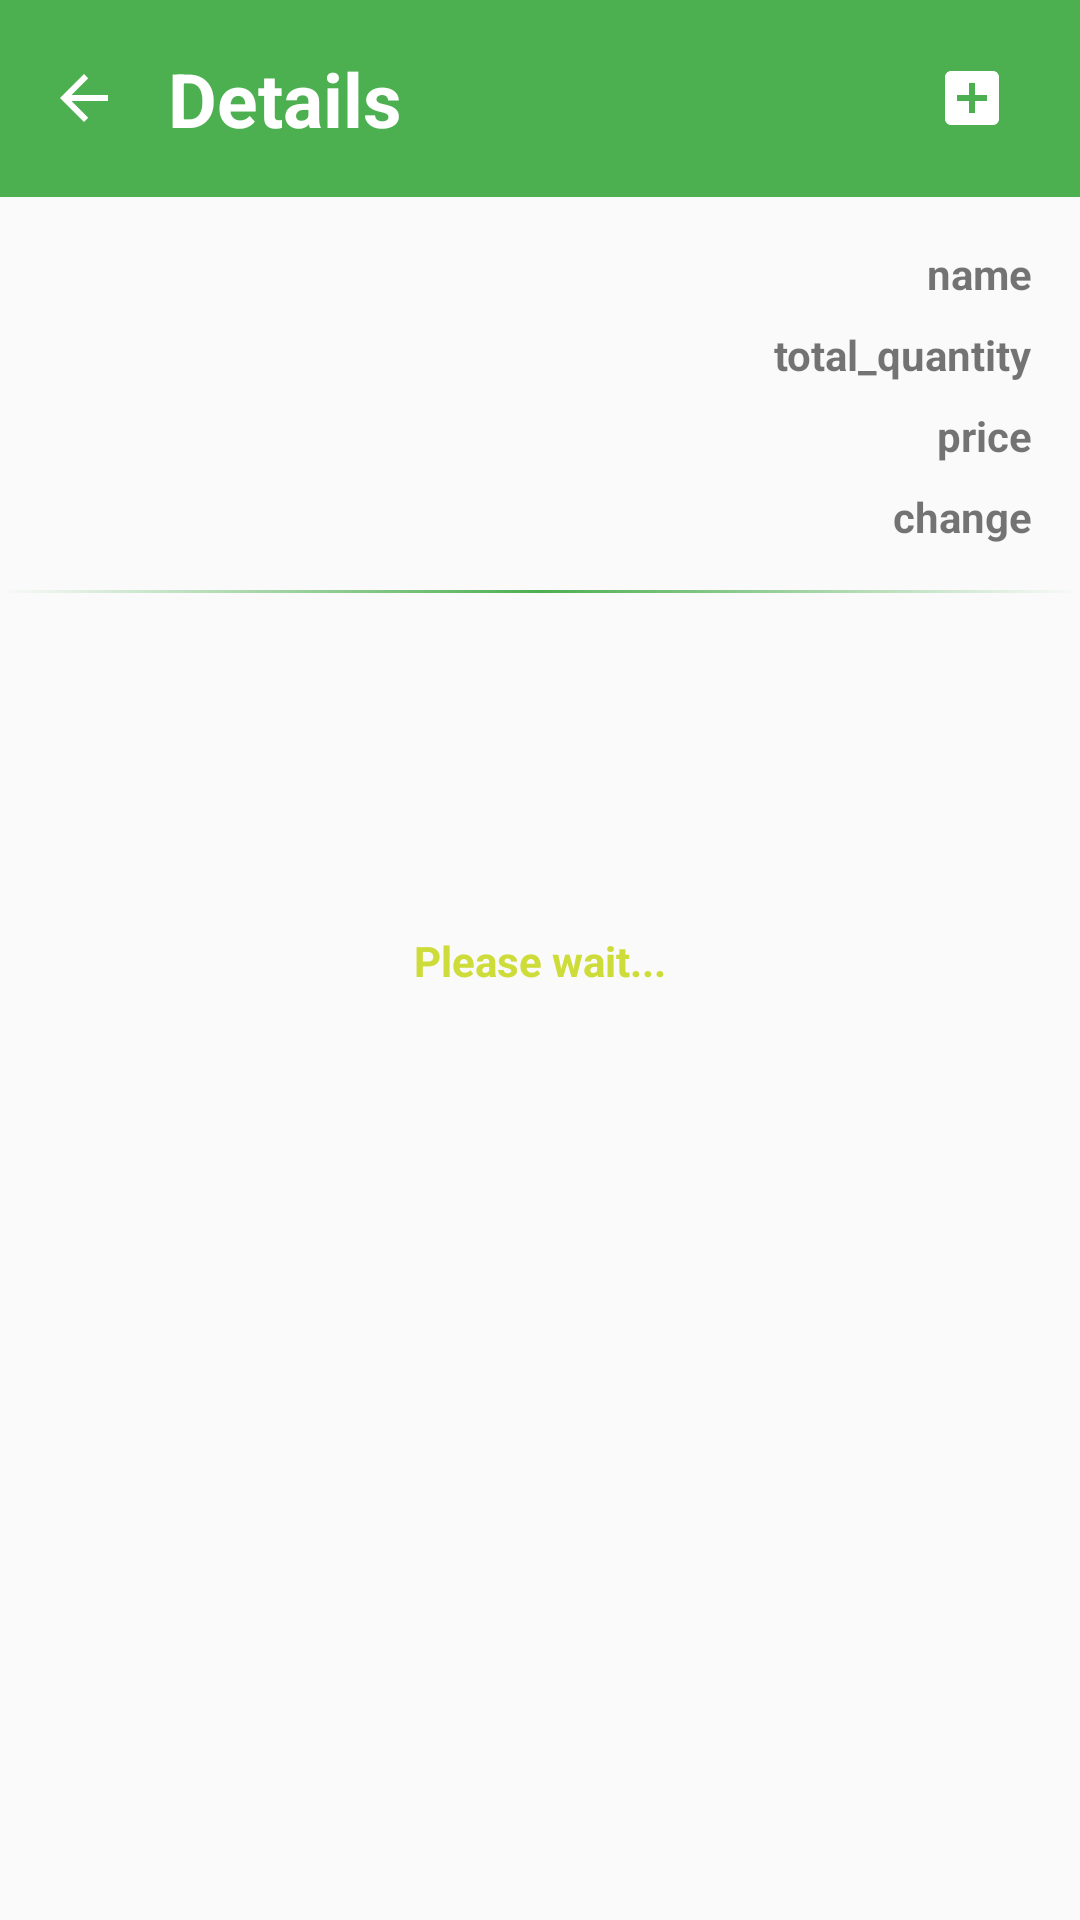

Icon click points for this 1080 × 1920 phone screenshot, format [x,y]:
add box: [972,98]
arrow back: [84,98]
